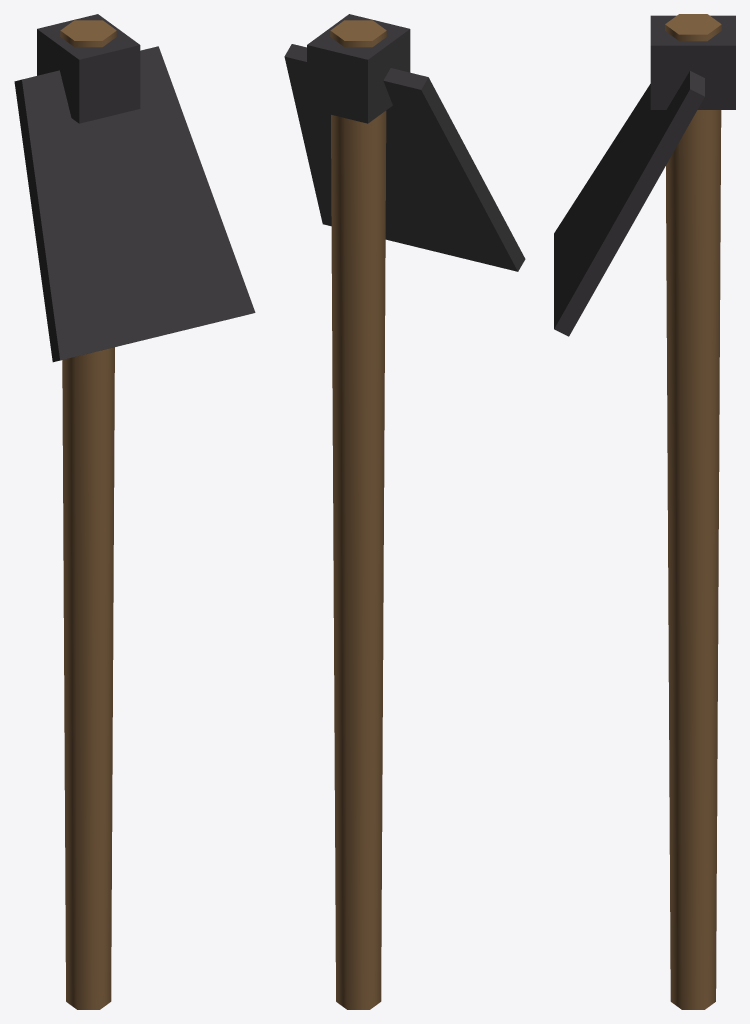
File: turia.glb
3 renders of one model, left to right at view 1: azimuth 30°, elevation 25°; view 2: azimuth 150°, elevation 25°; view 3: azimuth 270°, elevation 25°, orthographic.
Visible parts, largest first — view 1: turia; view 2: turia; view 3: turia.
Boxes of the visible parts, x1=… form: turia: x1=14, y1=14, x2=255, y2=1009; turia: x1=284, y1=14, x2=525, y2=1009; turia: x1=554, y1=14, x2=735, y2=1009.
Bounding box in the file's own units: 0.16 × 0.76 × 0.1282.
